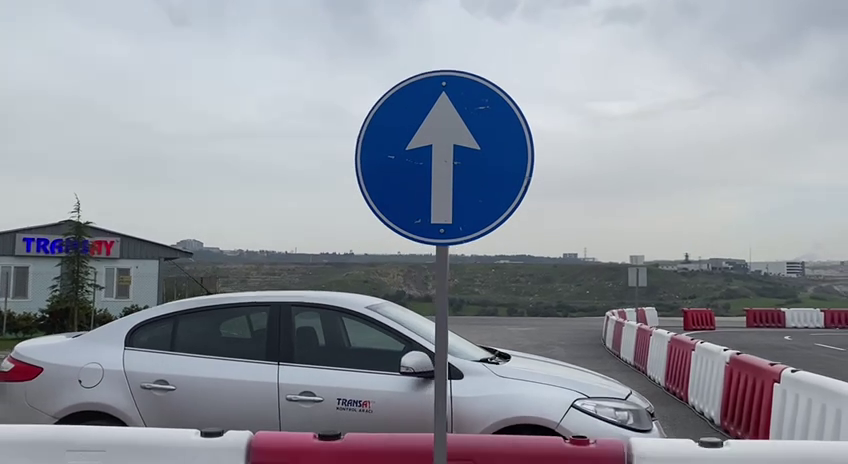forward: (350, 63, 540, 250)
